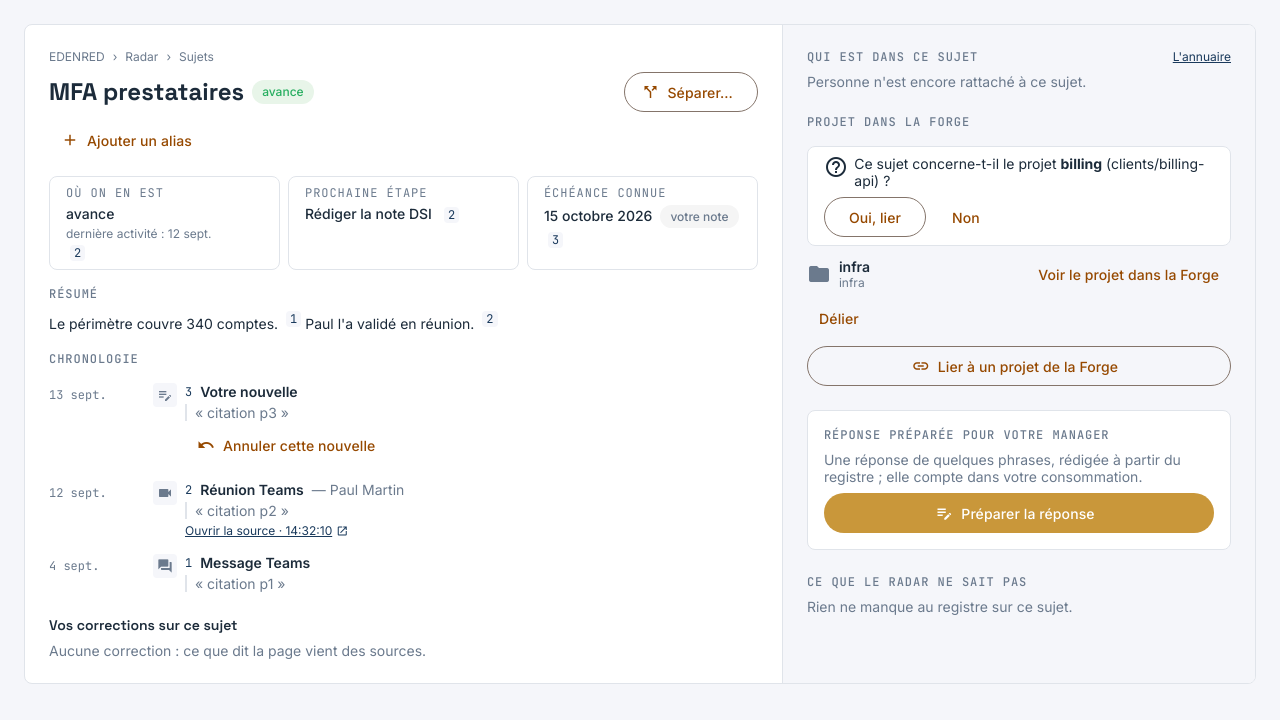
Scenario: RadarSubjectPageComponent › « Oui, lier » confirme, « Non » refuse, « Délier » défait : la section suit la réponse
Step 1. Click the button with class "radar-subject__proposal-yes" → (875, 217), box [824, 197, 926, 237]
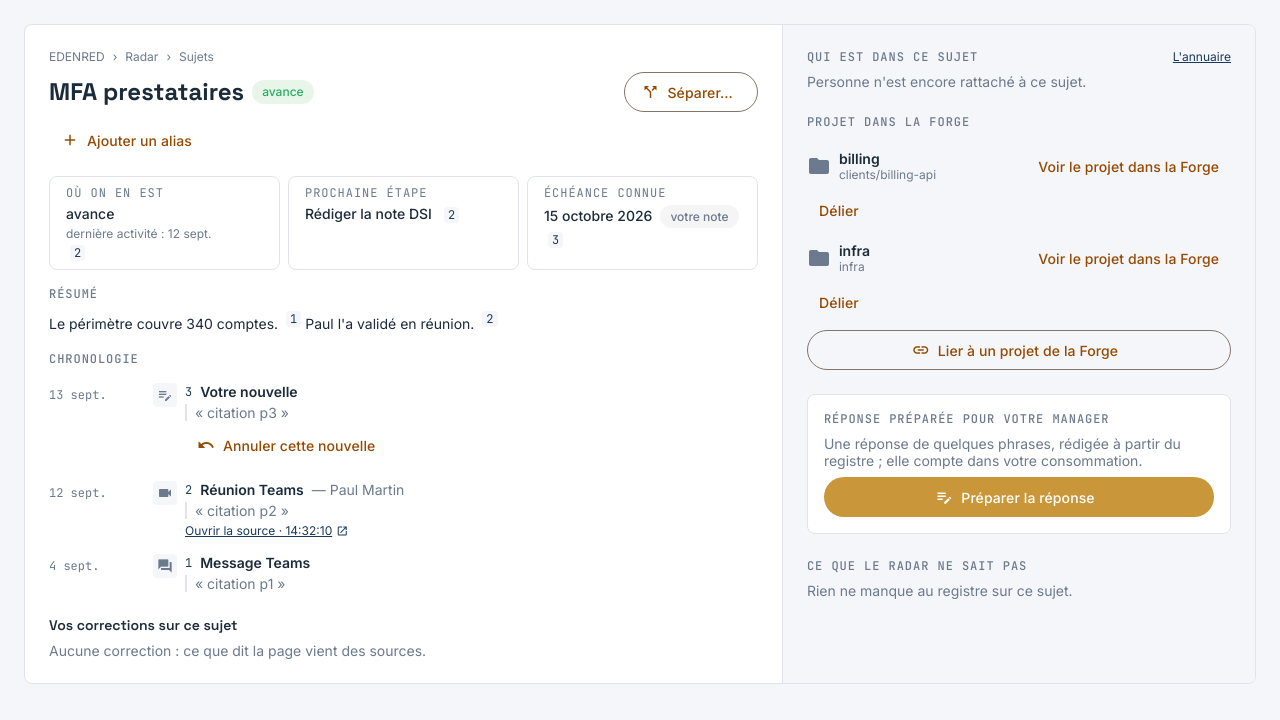
Now the element with class "radar-subject__proposal" is gone
Now the number of list items with class "radar-subject__linked-project" is 2, box [807, 146, 1231, 230]; [807, 238, 1231, 322]
Step 2. Click the button with class "radar-subject__unlink" showing "Délier" → (839, 210), box [807, 190, 871, 230]
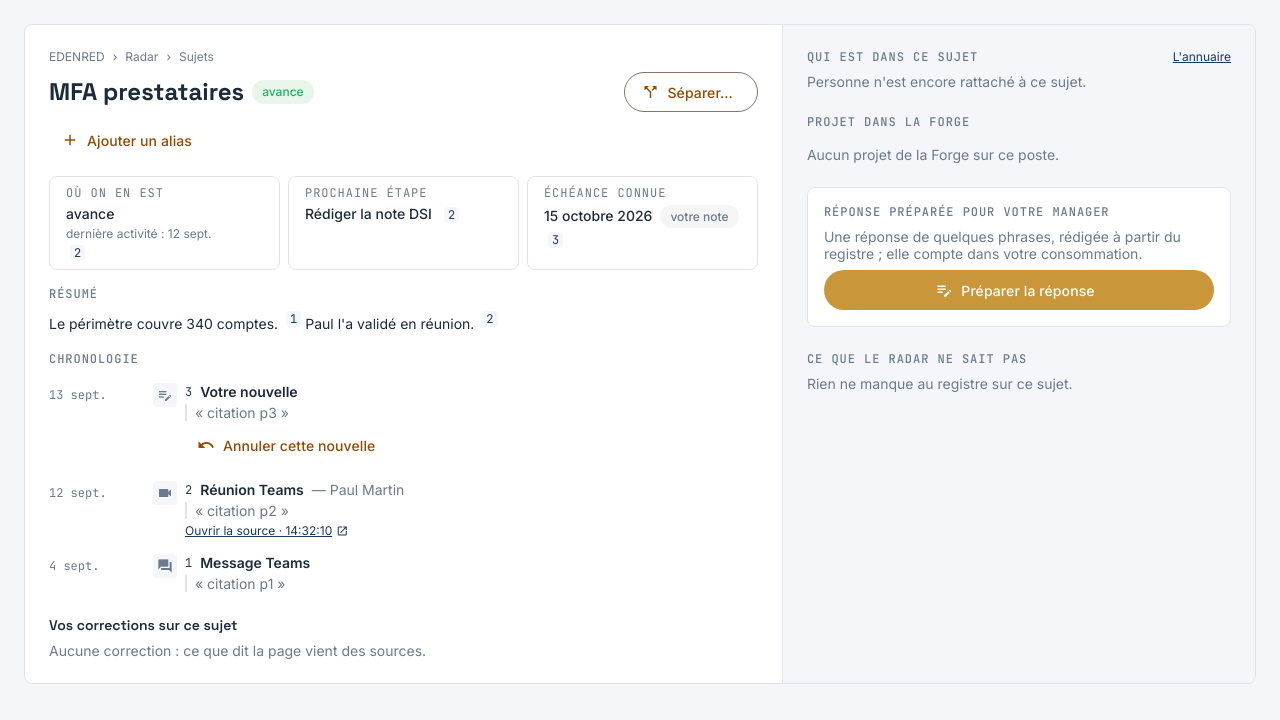
Now the text with class "radar-subject__projects-empty" reads "Aucun projet de la Forge sur ce poste.", box [807, 146, 1059, 163]
